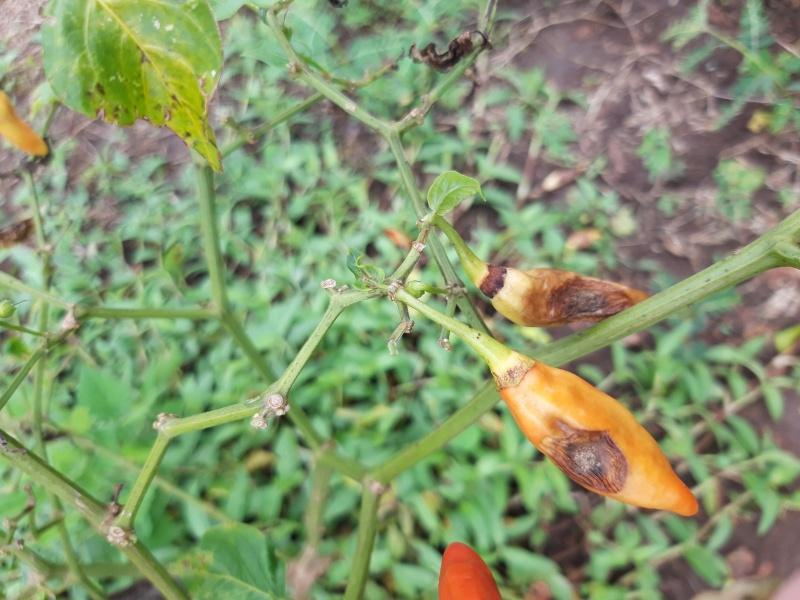antraknosa: (504, 362, 699, 517), (499, 269, 651, 327)
